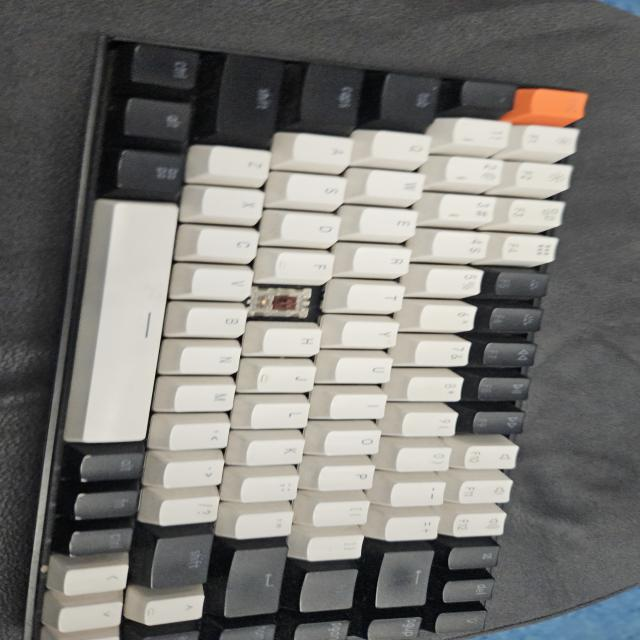C: (256, 290, 311, 316)
